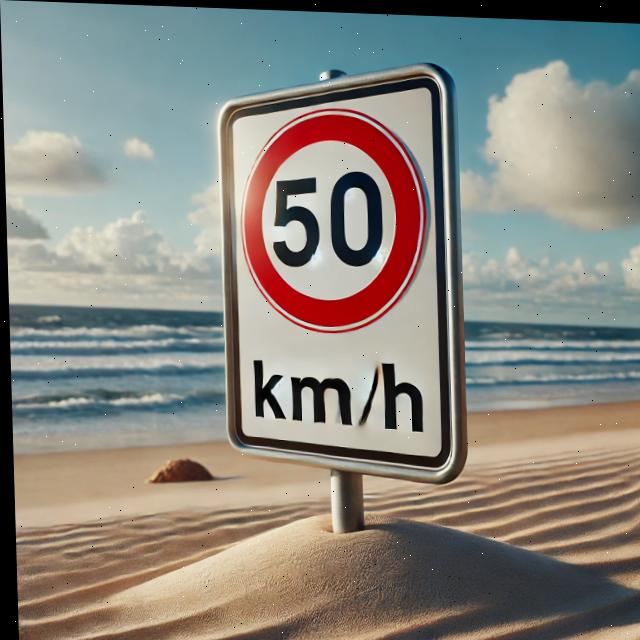Speed limit 50: (237, 102, 433, 335)
